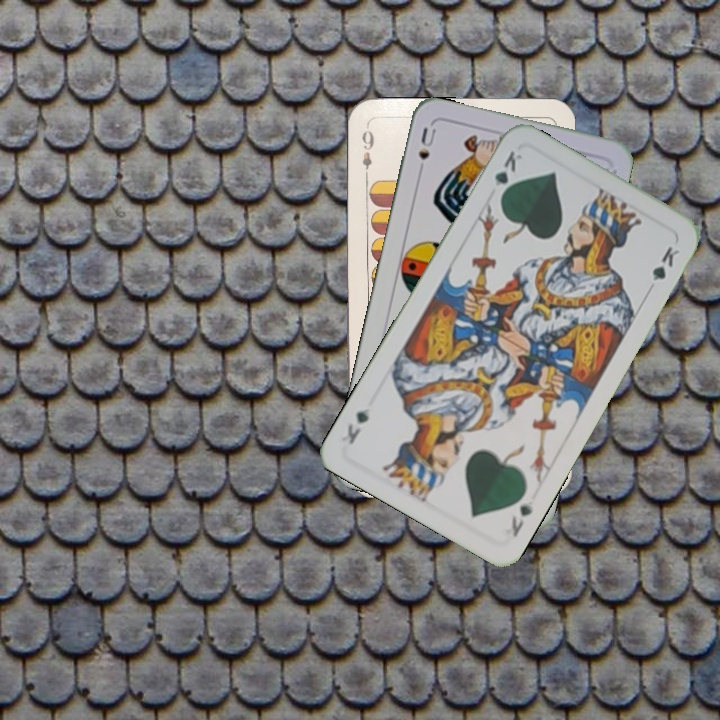E9: (358, 122, 377, 181)
GK: (490, 146, 526, 203), (507, 500, 536, 539)
SU: (414, 123, 439, 180)
